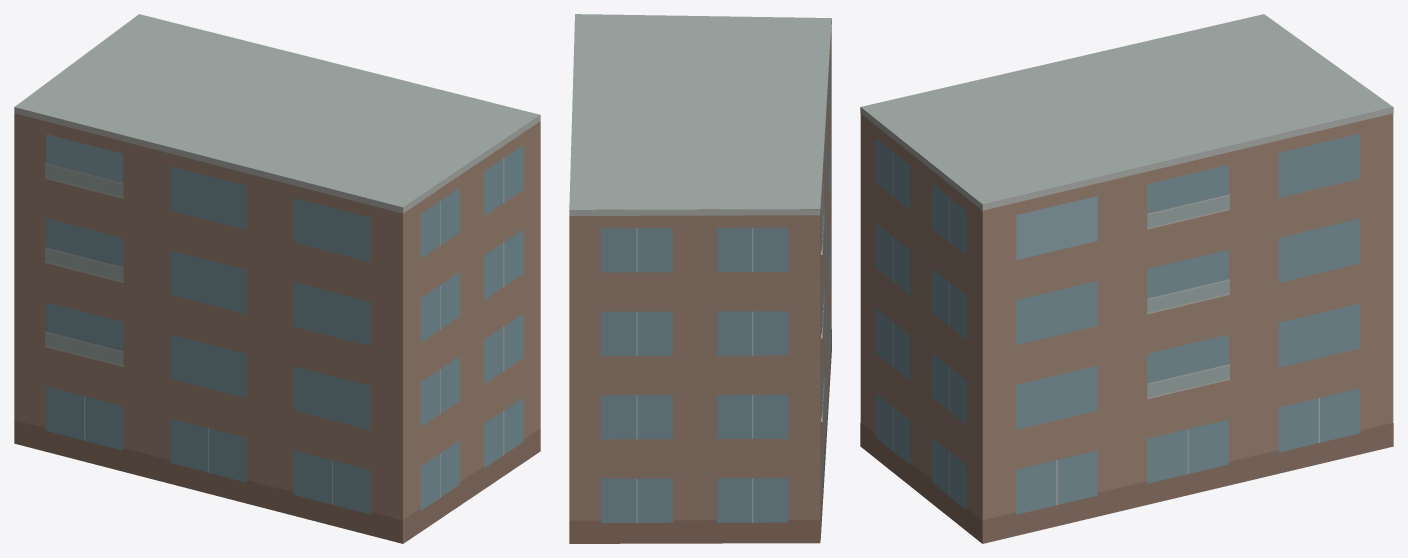
The model's file is survey-upis-33025968.glb.
3 views of the same model, side by side, from view 1: azimuth 30°, elevation 25°; view 2: azimuth 150°, elevation 25°; view 3: azimuth 270°, elevation 25° (orthographic).
Visible parts, largest first — view 1: survey-upis-33025968.tmp; view 2: survey-upis-33025968.tmp; view 3: survey-upis-33025968.tmp.
Part boxes in pixels (x1,y1,x2,y2): survey-upis-33025968.tmp: [14, 14, 540, 543]; survey-upis-33025968.tmp: [569, 14, 831, 543]; survey-upis-33025968.tmp: [860, 14, 1393, 543].
Size of the model in its own units: 15.89 by 13.2 by 18.79.
